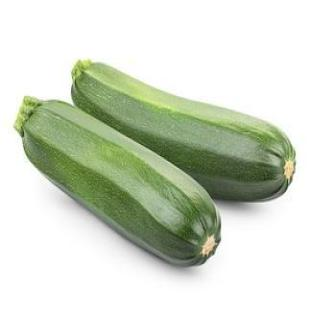Zucchini: (15, 98, 220, 266), (72, 62, 294, 200)
